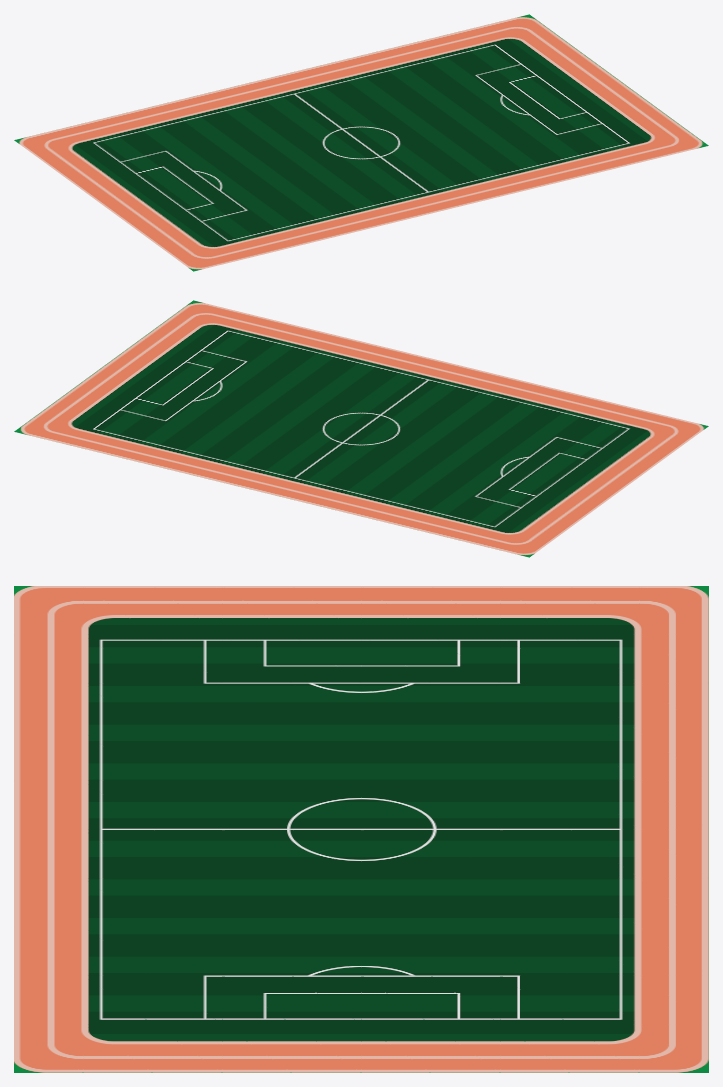
The model's file is field_2.fbx.
3 views of the same model, one above another, from view 1: azimuth 30°, elevation 25°; view 2: azimuth 150°, elevation 25°; view 3: azimuth 270°, elevation 25° (orthographic). The views are drawn at different scales.
Visible parts, largest first — view 1: Field_02; view 2: Field_02; view 3: Field_02.
Part boxes in pixels (x1,y1,x2,y2): Field_02: (14,14,708,271); Field_02: (14,300,708,557); Field_02: (14,586,708,1072).
Size of the model in its own units: 4.71 by 0 by 2.84.
1 material, 1 textured.
